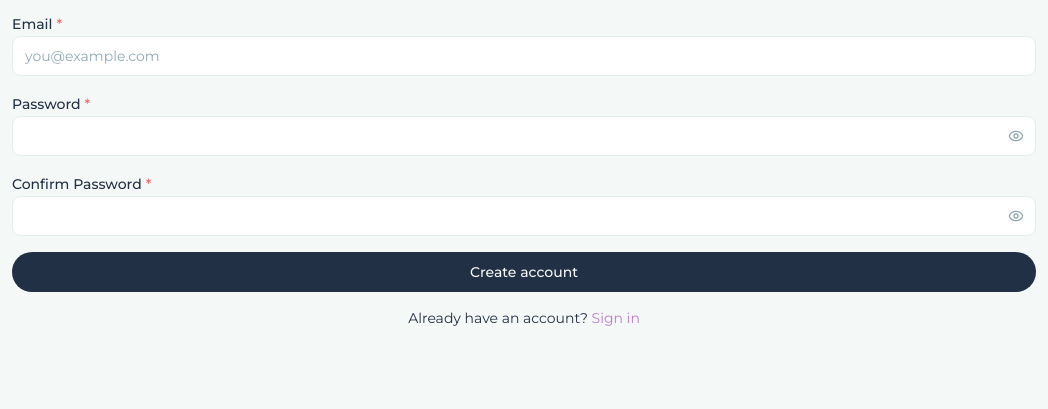
Test: SignupForm › server error renders as an accessible alert
The image size is (1048, 409).
In the field labelled "Email*": (524, 56) [12,36,1036,76], type "existing@example.com"
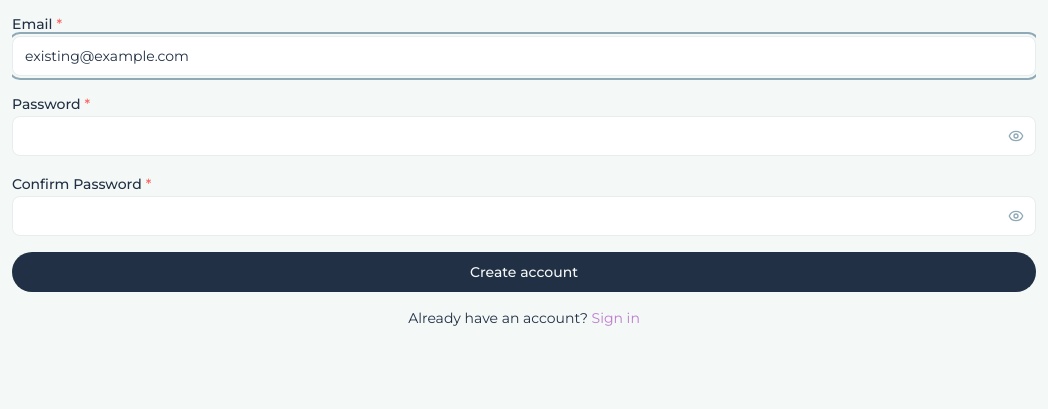
In the password field labelled "Password*": (524, 136) [12,116,1036,156], type "Password123"
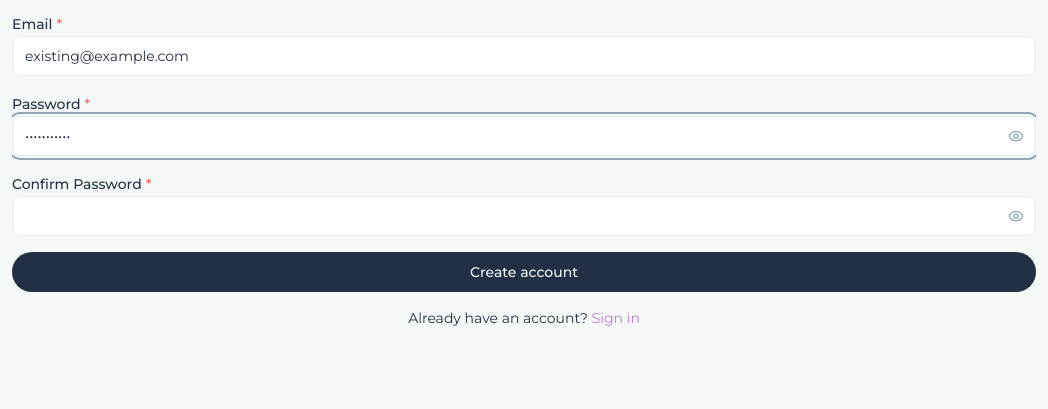
In the password field labelled "Confirm Password*": (524, 216) [12,196,1036,236], type "Password123"
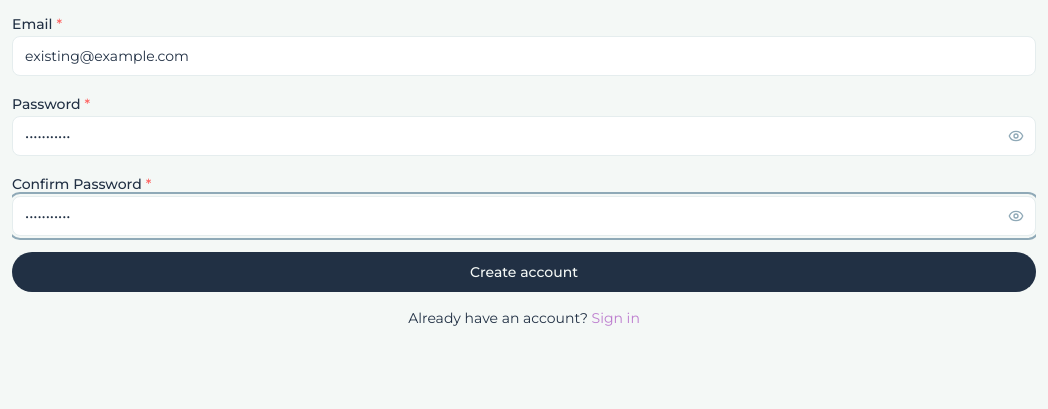
Click the button "Create account": click(524, 272) [12,252,1036,292]
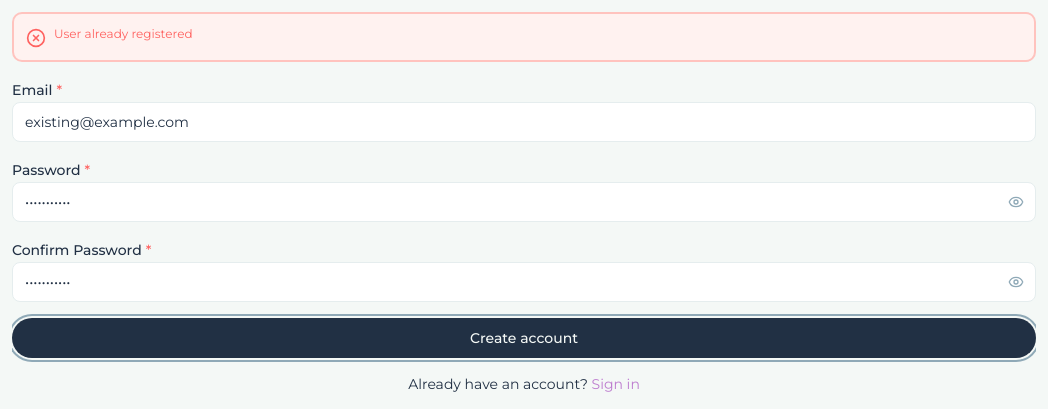
Expected: the message "User already registered" is shown, [12,12,1036,62]
Expected: the message reads "User already registered", [54,26,193,41]
